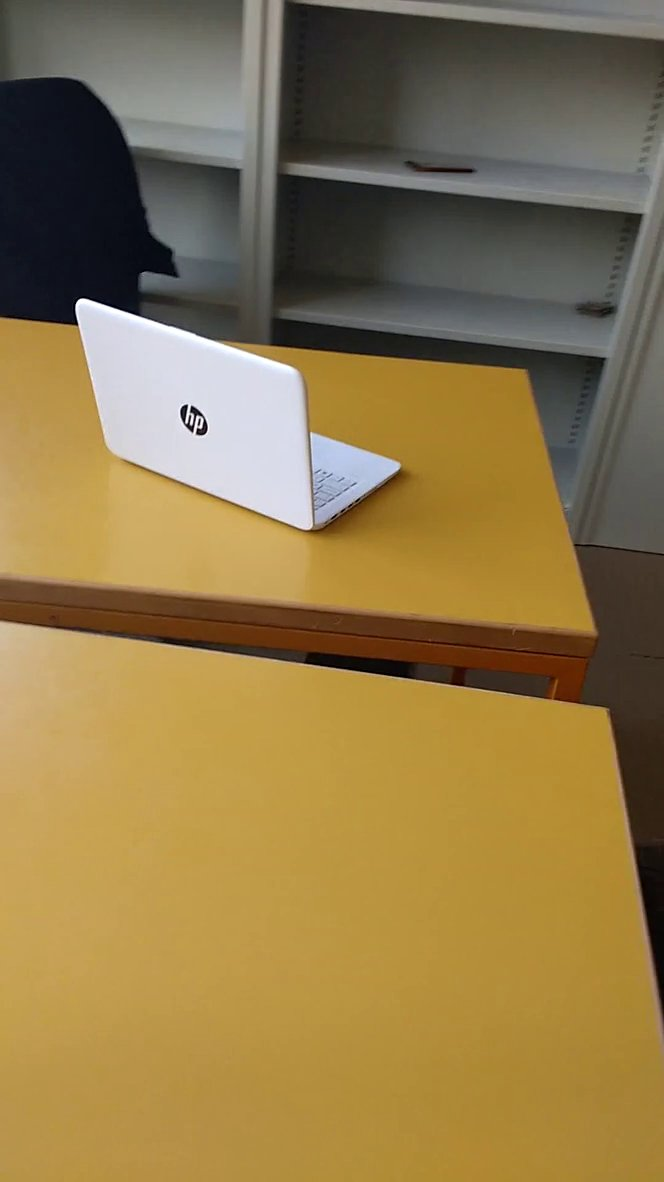laptop: (69, 285, 407, 545)
